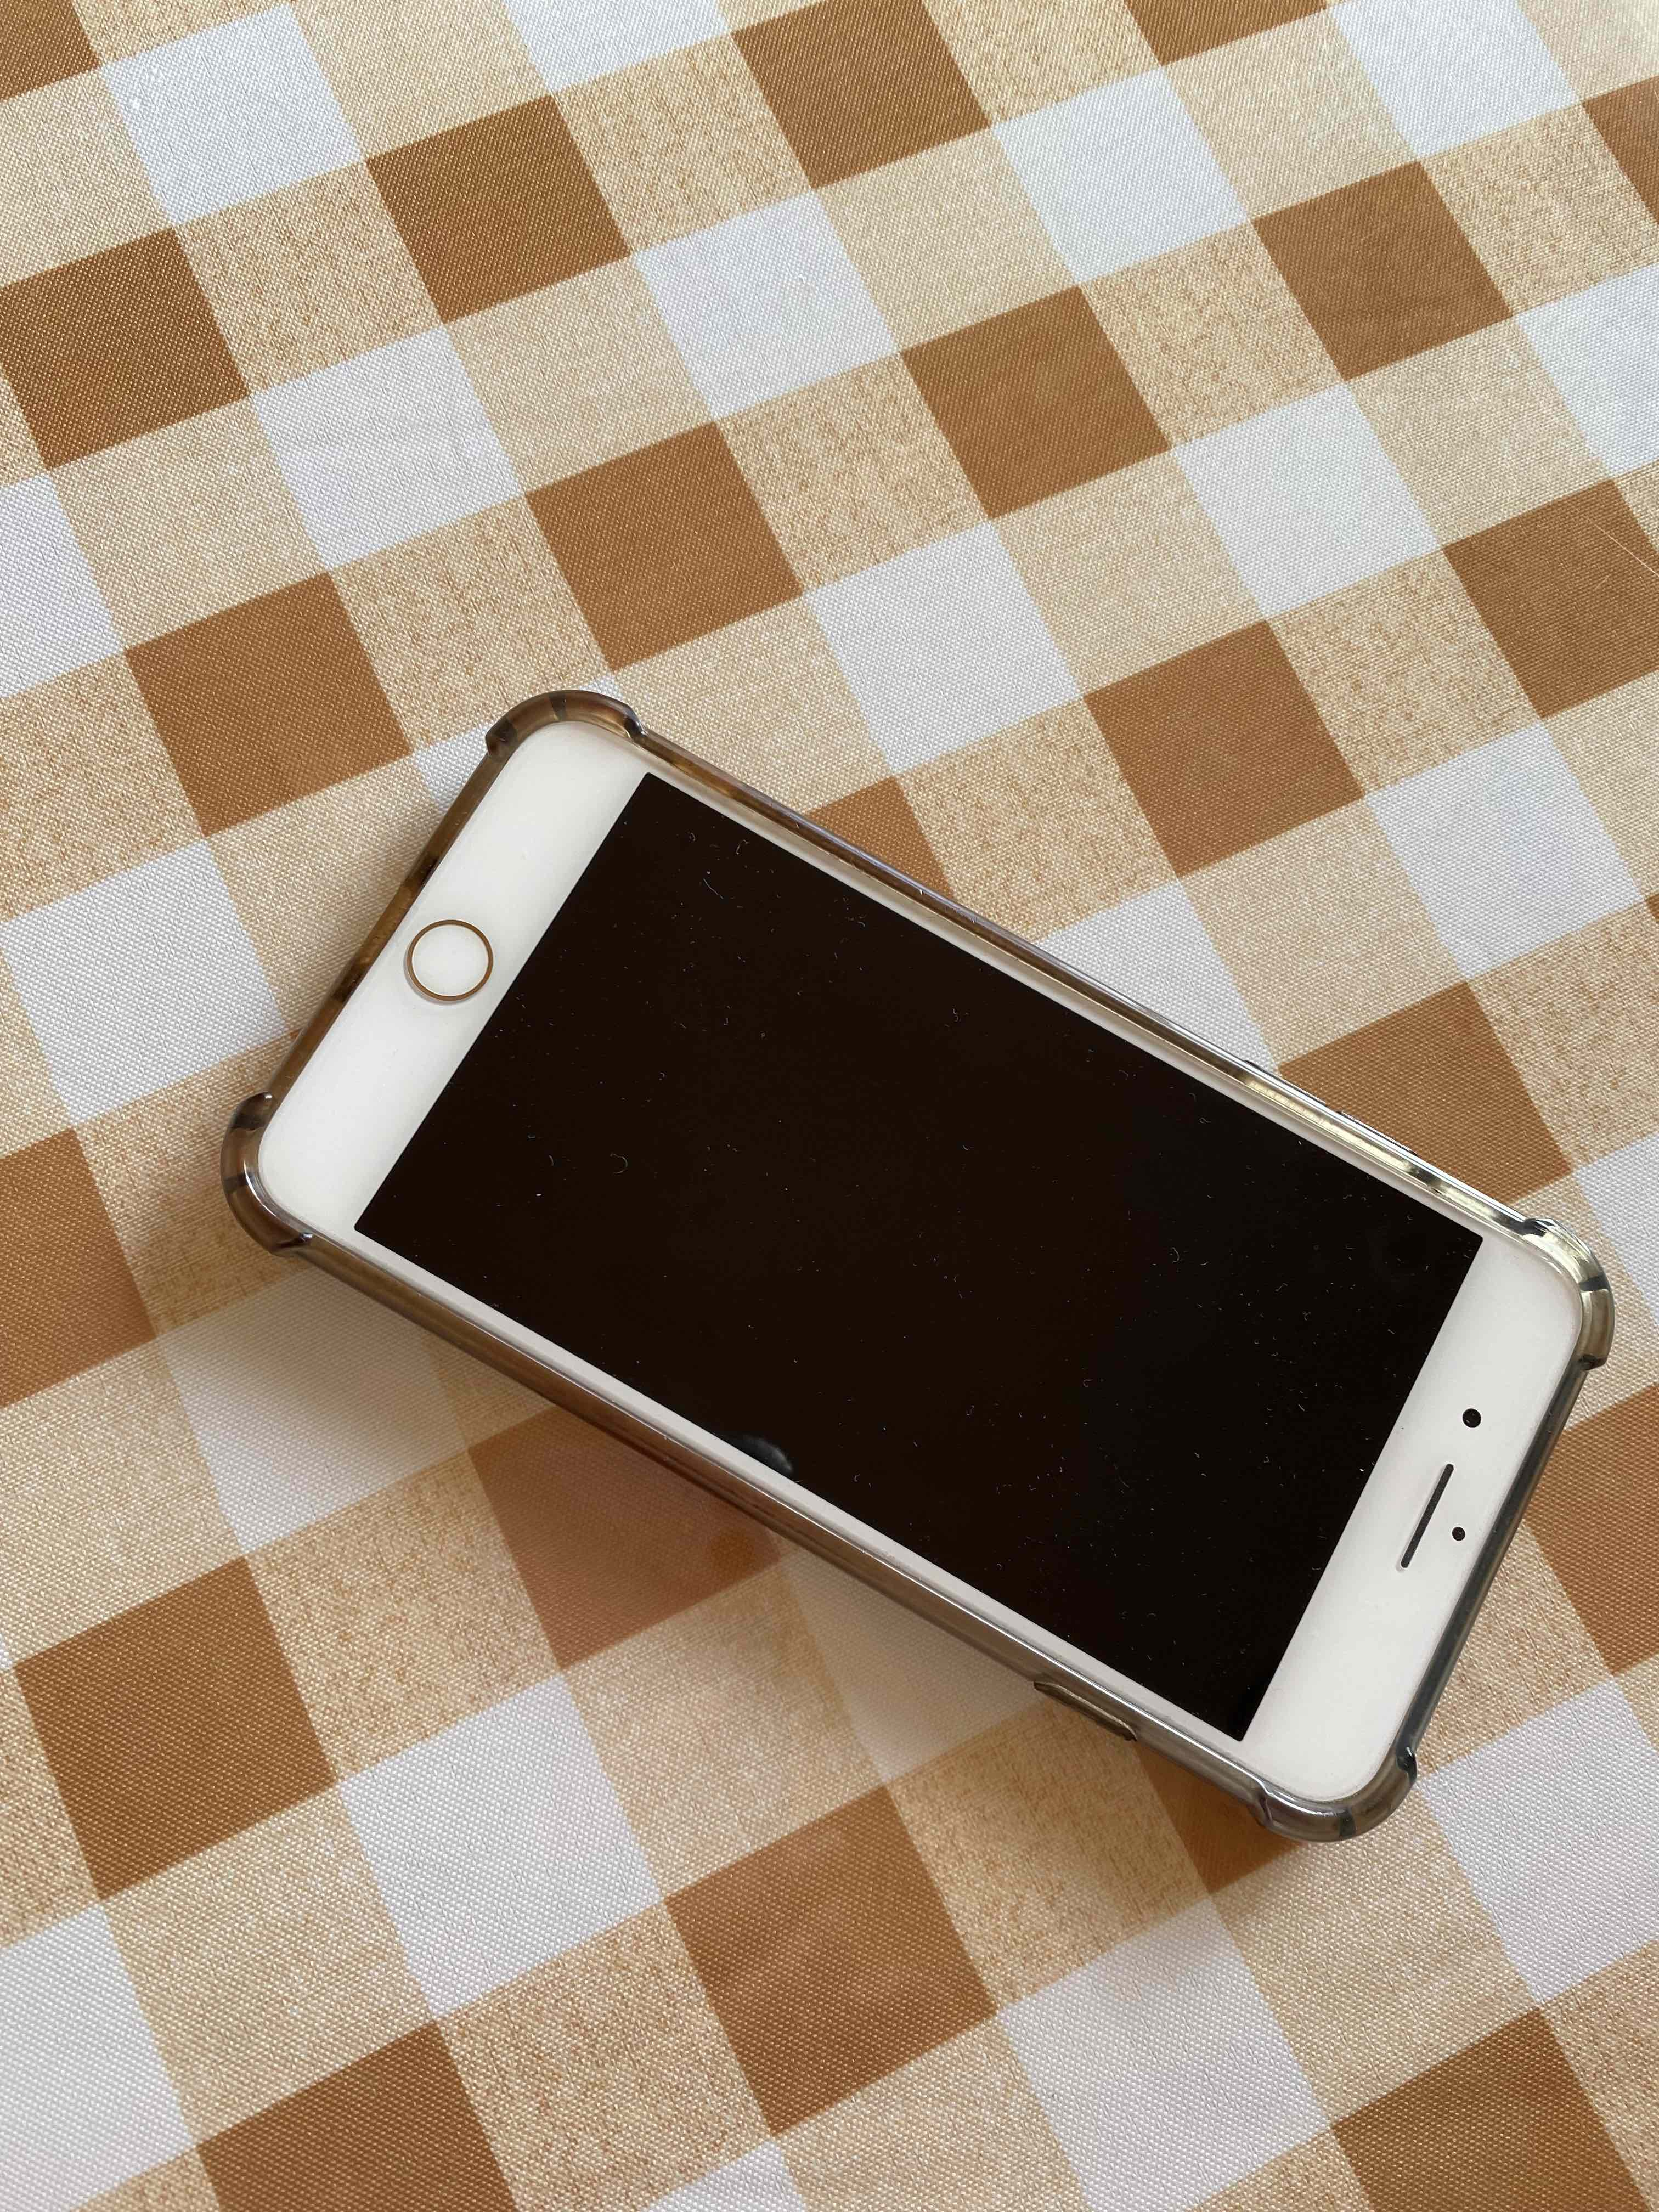Cell Phone: (220, 688, 1607, 1844)
